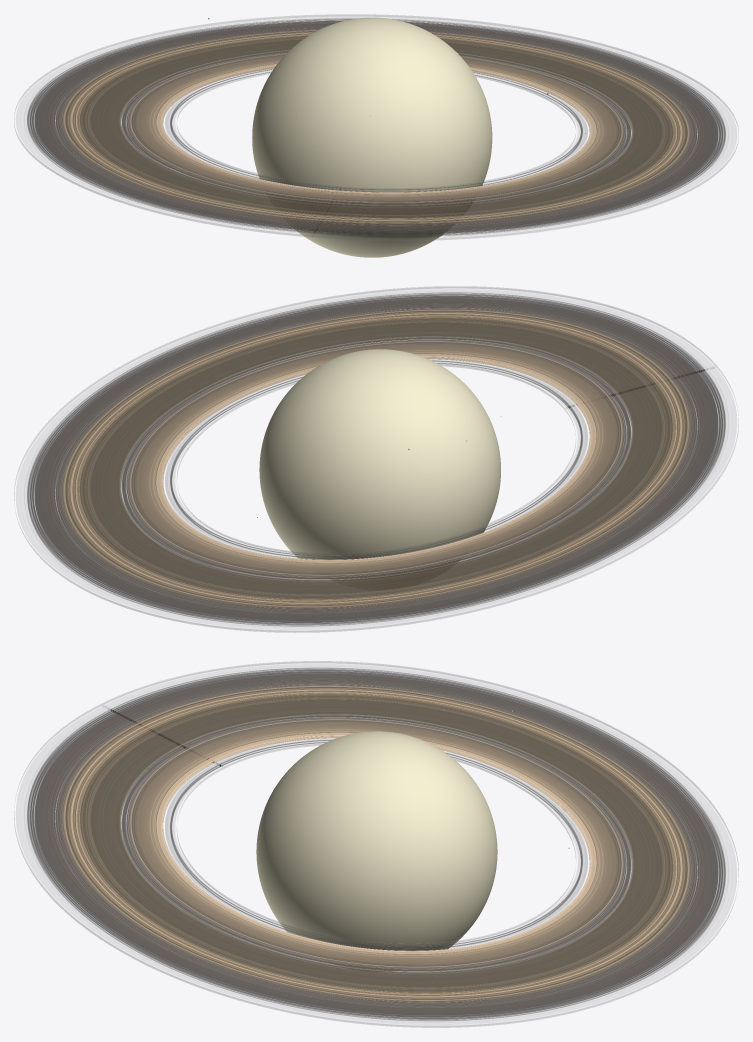
Rendered from saturn-transformed.glb.
3 renders of one model, top to bottom at view 1: azimuth 30°, elevation 25°; view 2: azimuth 150°, elevation 25°; view 3: azimuth 270°, elevation 25°, orthographic.
Parts seen in each view (by area): view 1: Ring, Cloud_Depth; view 2: Ring, Cloud_Depth; view 3: Ring, Cloud_Depth.
Part boxes in pixels (x1,y1,x2,y2): Ring: [14, 14, 738, 240]; Cloud_Depth: [252, 17, 492, 257]; Ring: [14, 286, 738, 632]; Cloud_Depth: [259, 349, 500, 581]; Ring: [14, 661, 738, 1027]; Cloud_Depth: [256, 731, 497, 971].
Bounding box in the file's own units: 1775 × 590 × 1773.
Materials: 4 (3 with a texture image).
